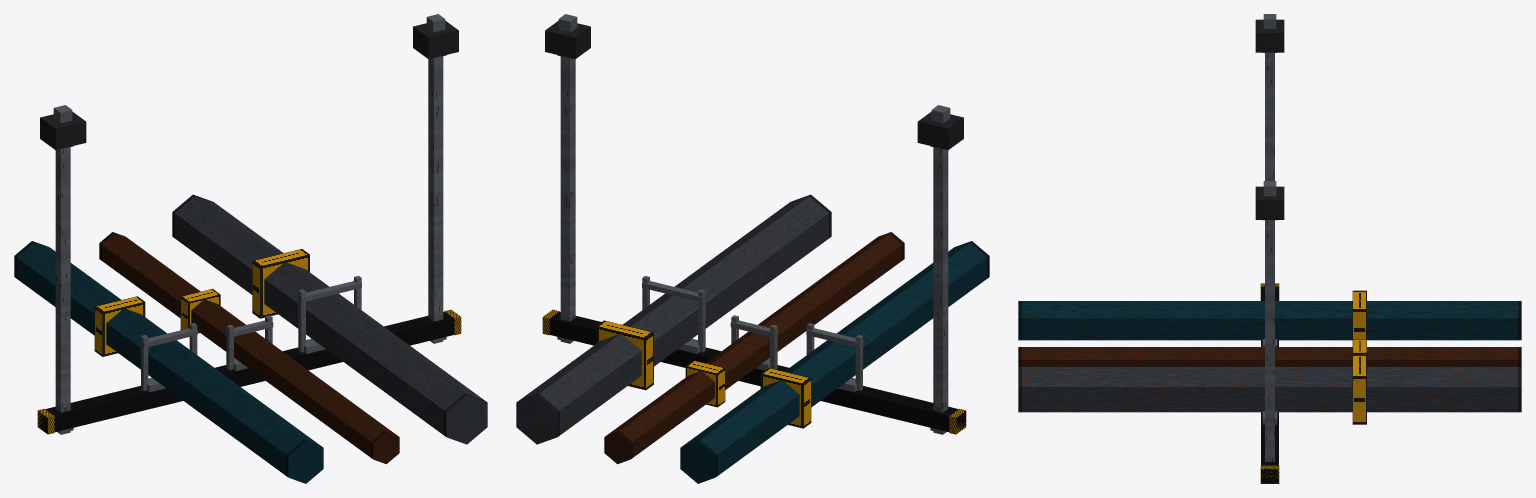
File: overhead_pipe_support.glb
3 views of the same model, side by side, from view 1: azimuth 30°, elevation 25°; view 2: azimuth 150°, elevation 25°; view 3: azimuth 270°, elevation 25° (orthographic). The views are drawn at different scales.
Visible parts, largest first — view 1: overhead_pipe_support; view 2: overhead_pipe_support; view 3: overhead_pipe_support.
Part boxes in pixels (bbox=[...]): overhead_pipe_support: bbox=[14, 14, 487, 483]; overhead_pipe_support: bbox=[516, 14, 989, 483]; overhead_pipe_support: bbox=[1018, 14, 1521, 483].
Size of the model in its own units: 1.22 by 0.91 by 1.4.
Materials: 1 (1 with a texture image).
